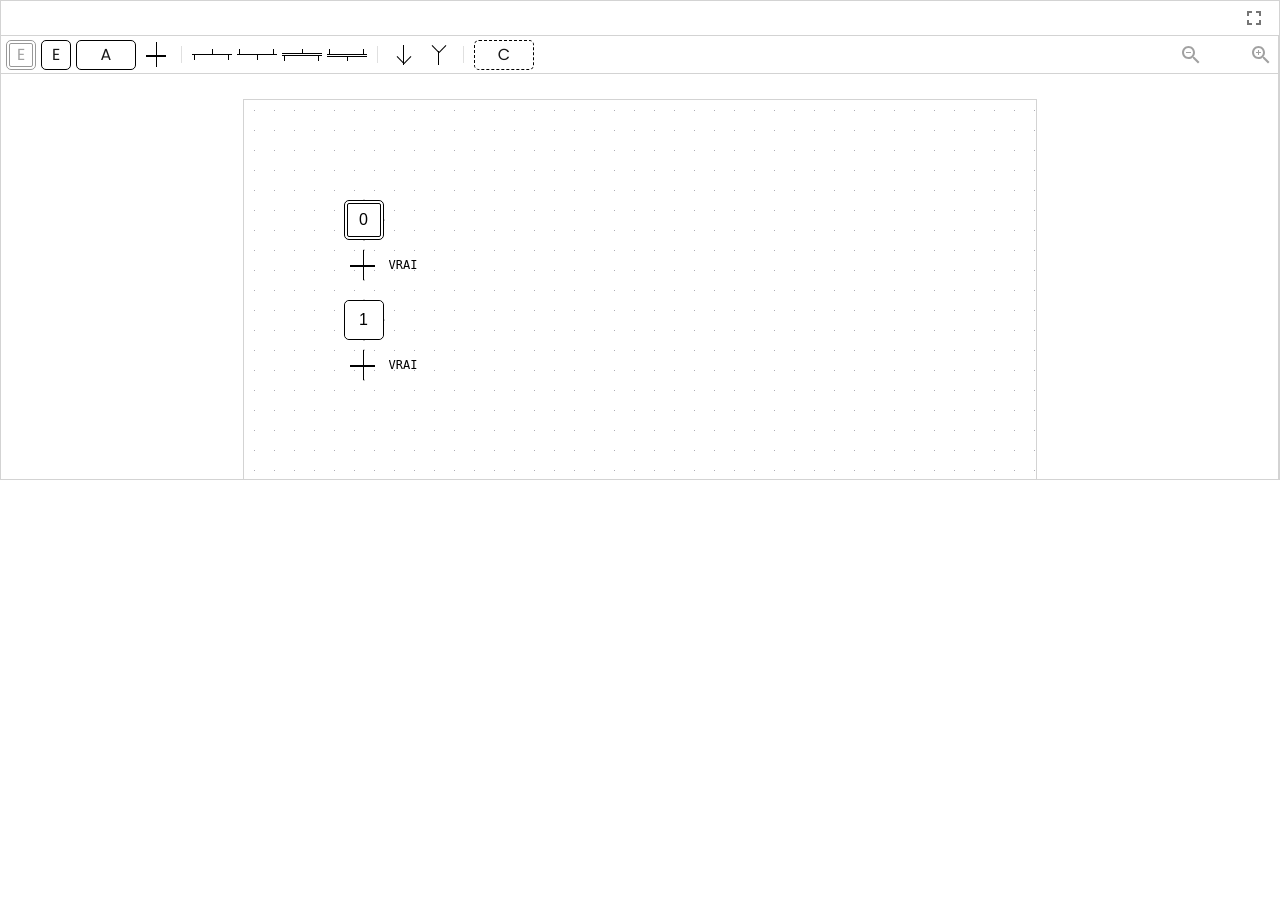
Test: EmbeddedApp › full screen › covers the page with an overlay, and leaves with the button
Click the button named "Plein écran" at {"x": 1254, "y": 18}, box [1237,1,1271,35]
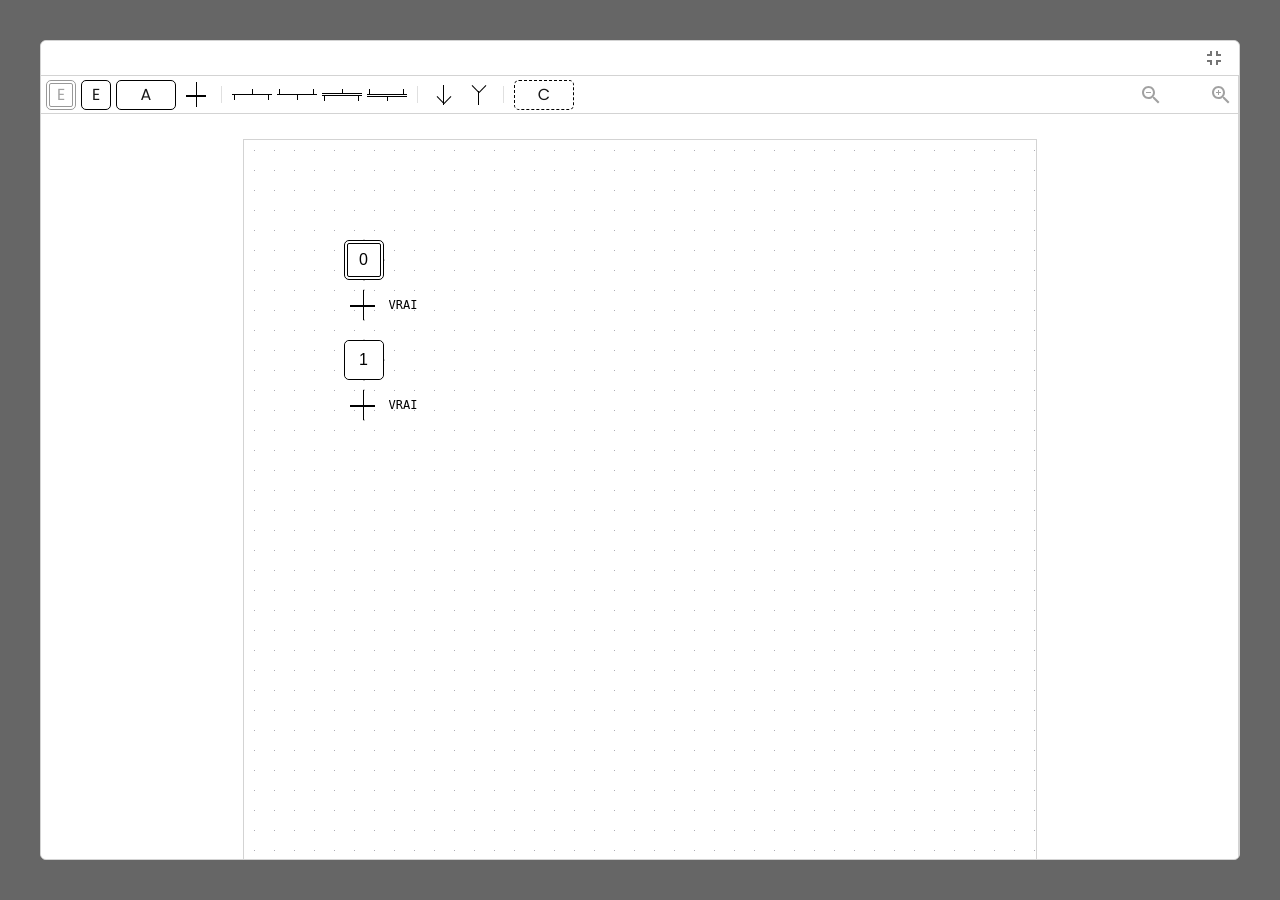
Expected: the element with test id "embedded-overlay" is shown
Click the button named "Quitter le plein écran" at {"x": 1214, "y": 58}, box [1197,41,1231,75]
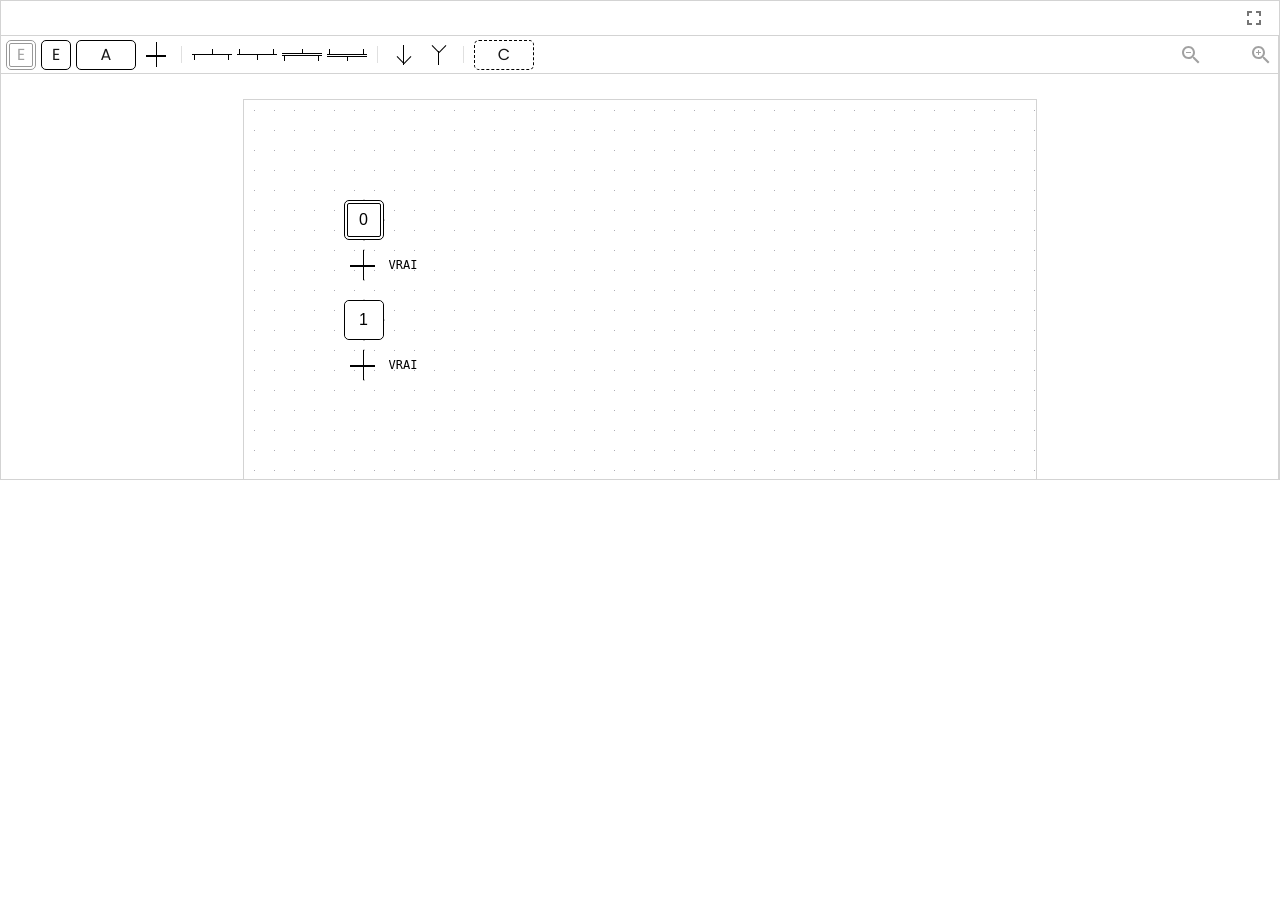
Expected: the element with test id "embedded-overlay" is gone
